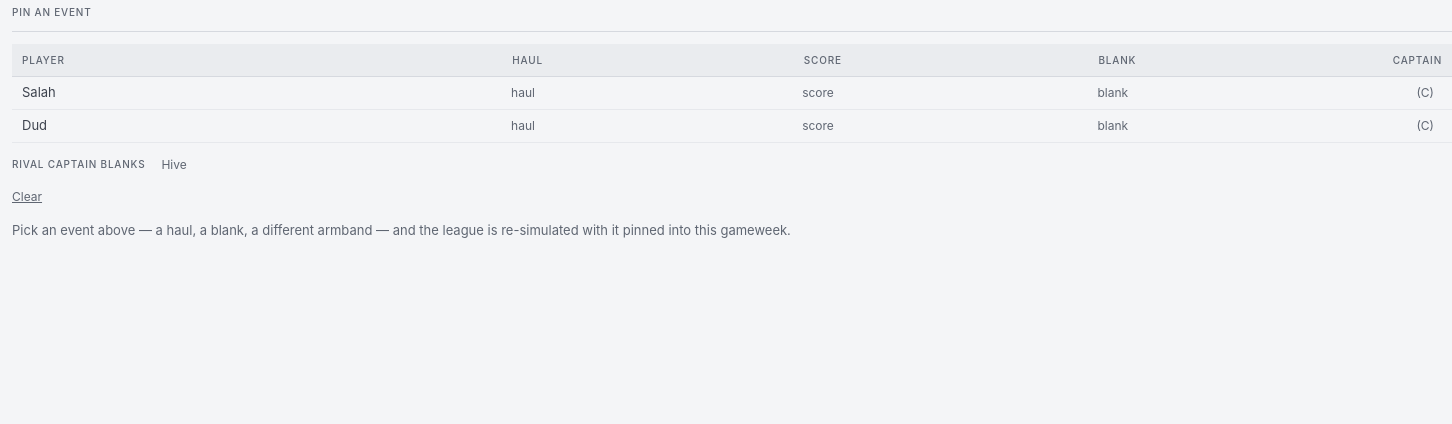
Test: WhatIfSim › prices a blank as a change in title odds
The image size is (1452, 424).
Step 1. Click the button with test id "pin-100-blank" → coordinates (1113, 92), box [1090, 82, 1136, 102]
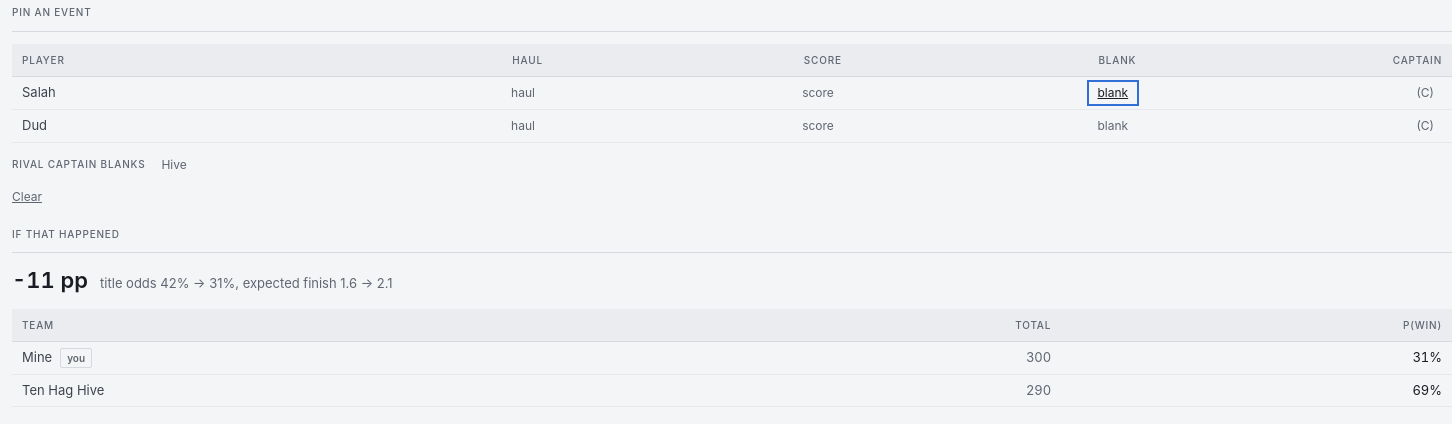
Check: the text with test id "delta-p-win" shows "-11", box [12, 267, 88, 293]
